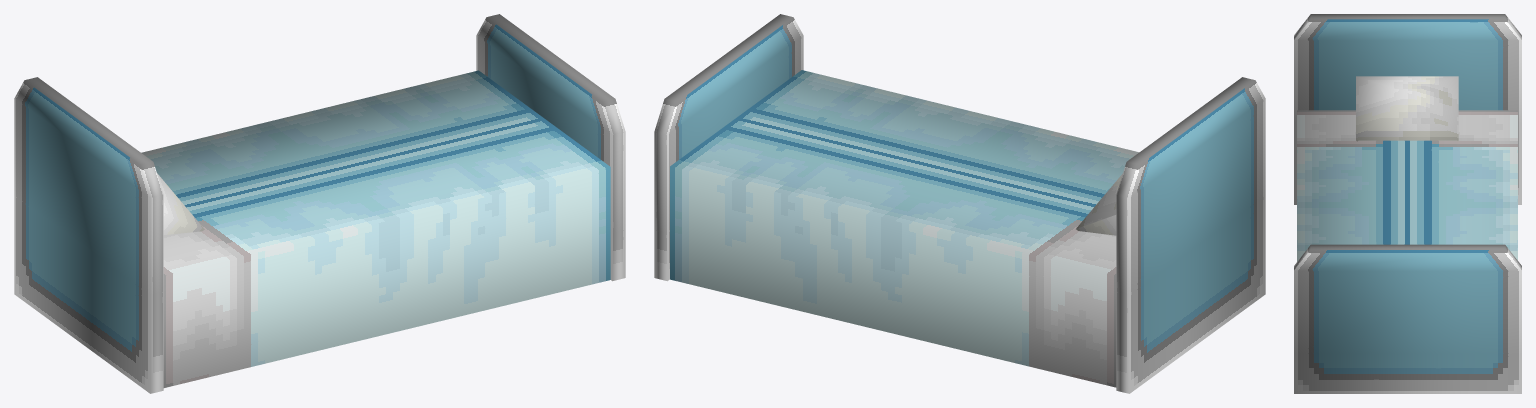
The picture shows the model from 3 angles, left to right: view 1: azimuth 30°, elevation 25°; view 2: azimuth 150°, elevation 25°; view 3: azimuth 270°, elevation 25°; orthographic projection. The views are drawn at different scales.
Parts seen in each view (by area): view 1: 3233IMSD01_19; view 2: 3233IMSD01_19; view 3: 3233IMSD01_19.
Boxes of the visible parts, x1,y1,x2,y2 form: 3233IMSD01_19: [14, 14, 625, 393]; 3233IMSD01_19: [654, 14, 1265, 393]; 3233IMSD01_19: [1294, 14, 1521, 393].
Bounding box in the file's own units: 1.94 × 0.863 × 0.9602.
Materials: 2 (2 with a texture image).
